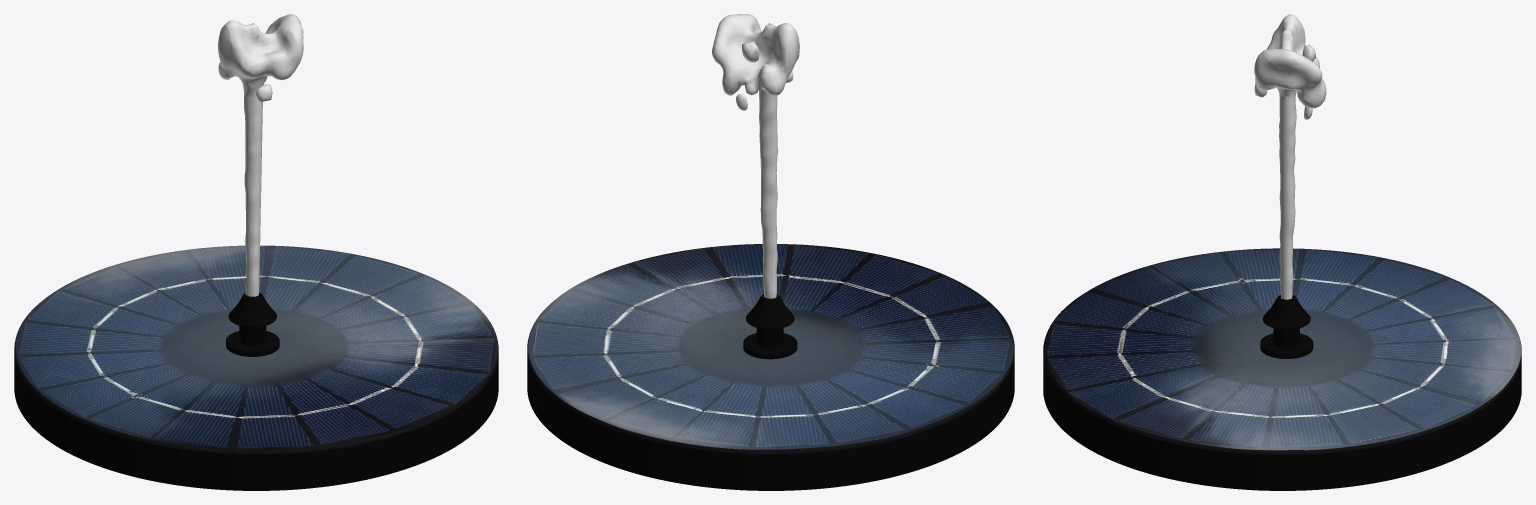
File: PUMP.fbx
3 renders of one model, left to right at view 1: azimuth 30°, elevation 25°; view 2: azimuth 150°, elevation 25°; view 3: azimuth 270°, elevation 25°, orthographic.
Parts seen in each view (by area): view 1: Circle.006, Cube.002; view 2: Circle.006, Cube.002; view 3: Circle.006, Cube.002.
Boxes of the visible parts, x1,y1,x2,y2 form: Circle.006: [14, 245, 498, 490]; Cube.002: [218, 14, 303, 296]; Circle.006: [527, 244, 1014, 490]; Cube.002: [712, 14, 799, 298]; Circle.006: [1043, 248, 1521, 490]; Cube.002: [1254, 14, 1326, 299].
Bounding box in the file's own units: 18 × 16.55 × 18.
Materials: 9 (1 with a texture image).
